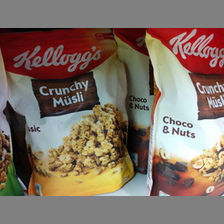cereal: (1, 28, 129, 195), (145, 28, 224, 197)
